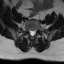CCS_normal: (31, 28, 33, 38)
LFS_stenosis: (35, 27, 38, 33)
LLS_normal: (33, 28, 35, 36)
RFS_stenosis: (26, 26, 29, 32)
RLS_normal: (29, 28, 31, 36)
